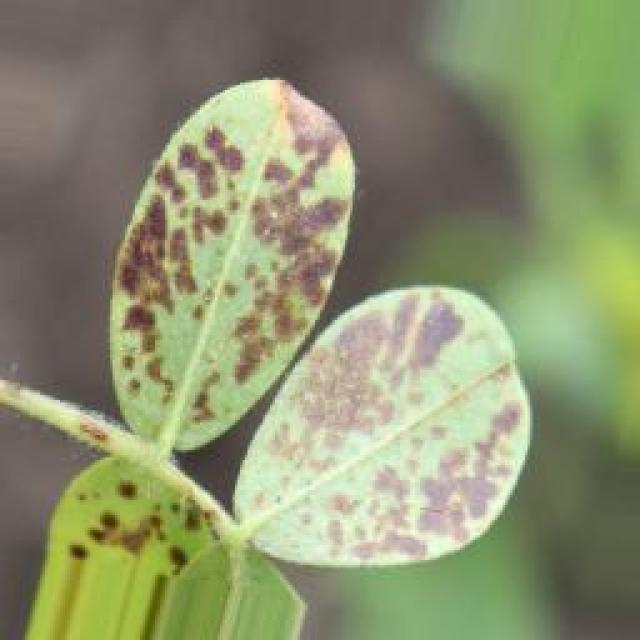Whitefly: (96, 83, 505, 614)
